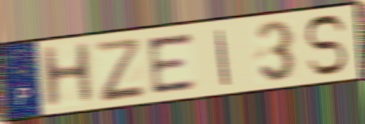3: (252, 18, 299, 85)
E: (144, 30, 199, 97)
H: (38, 40, 97, 112)
I: (214, 28, 232, 87)
S: (302, 13, 349, 78)
Z: (91, 36, 148, 104)
